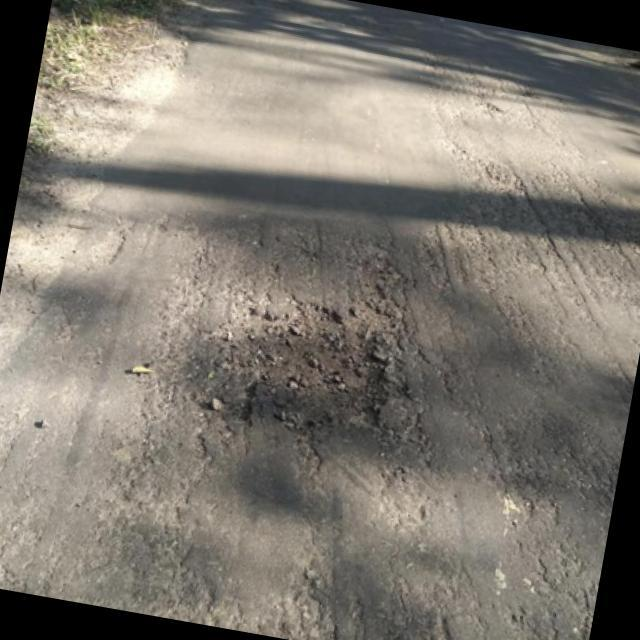Pothole: (185, 249, 401, 428)
